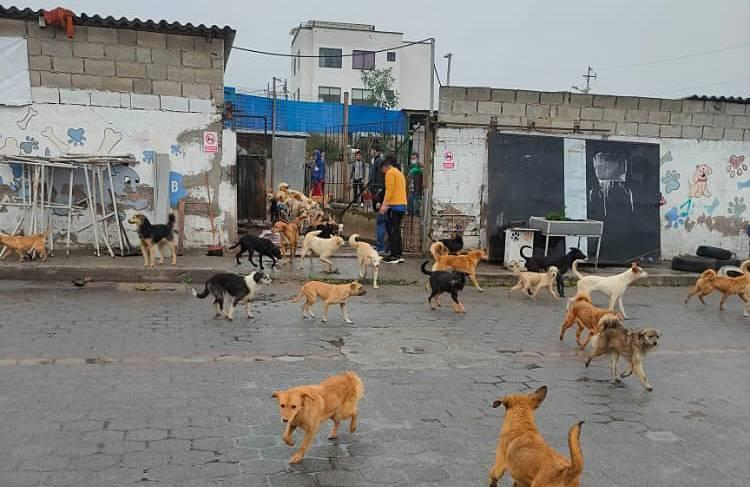normal_dogs: (496, 387, 590, 487), (270, 366, 366, 458), (589, 317, 668, 394), (202, 267, 276, 324), (566, 262, 652, 311), (509, 242, 590, 293), (548, 296, 624, 347), (124, 209, 182, 268), (297, 276, 364, 325), (428, 245, 492, 292), (681, 265, 750, 306), (422, 260, 468, 316), (0, 220, 59, 262), (294, 225, 345, 270), (233, 228, 282, 271), (507, 267, 561, 306), (350, 231, 384, 290), (270, 213, 302, 267), (425, 223, 468, 257), (309, 186, 338, 212)
